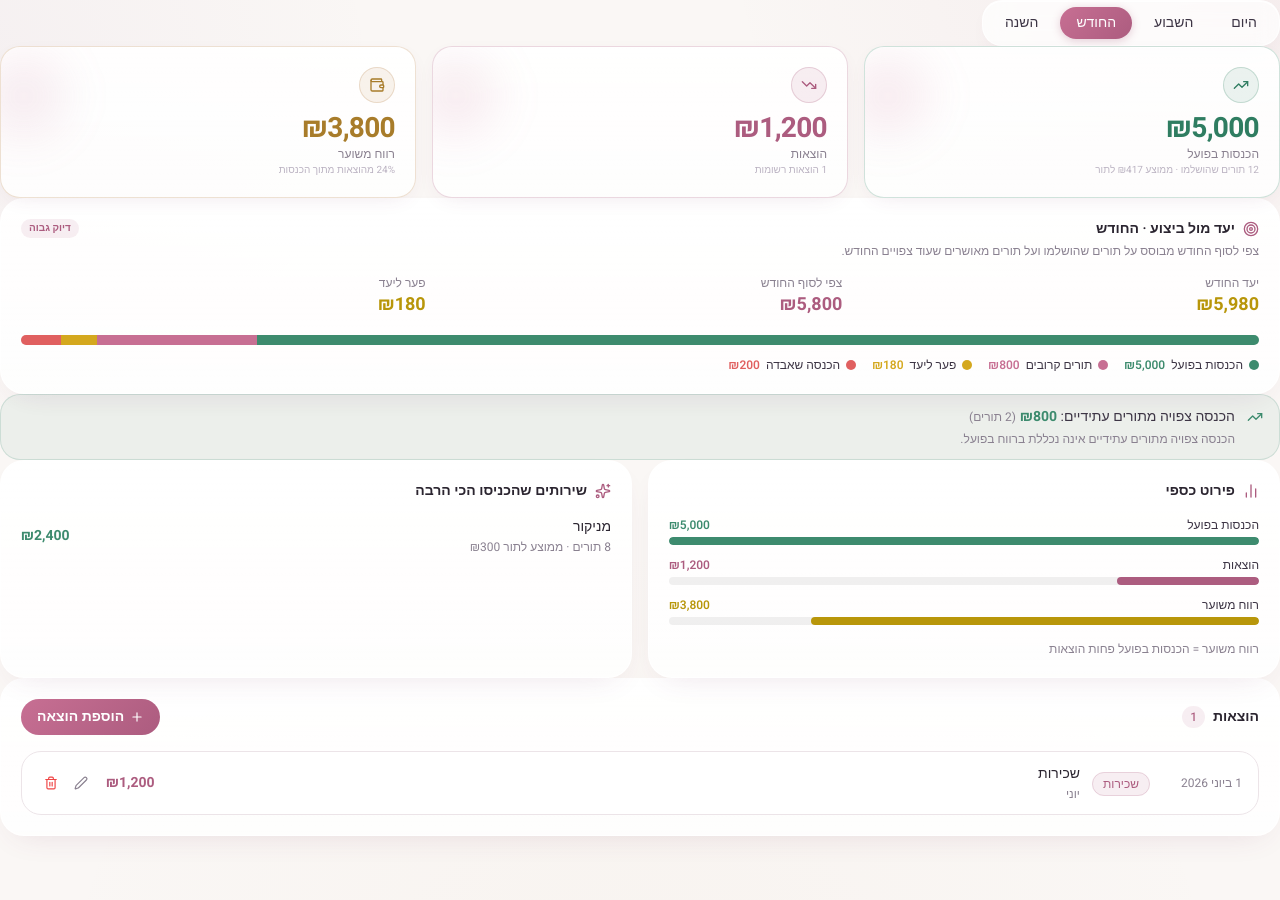
FinancePageClient — expenses CRUD › opens the add-expense modal from the header button
Click the button "הוספת הוצאה" at (91, 716), box [21, 698, 160, 734]
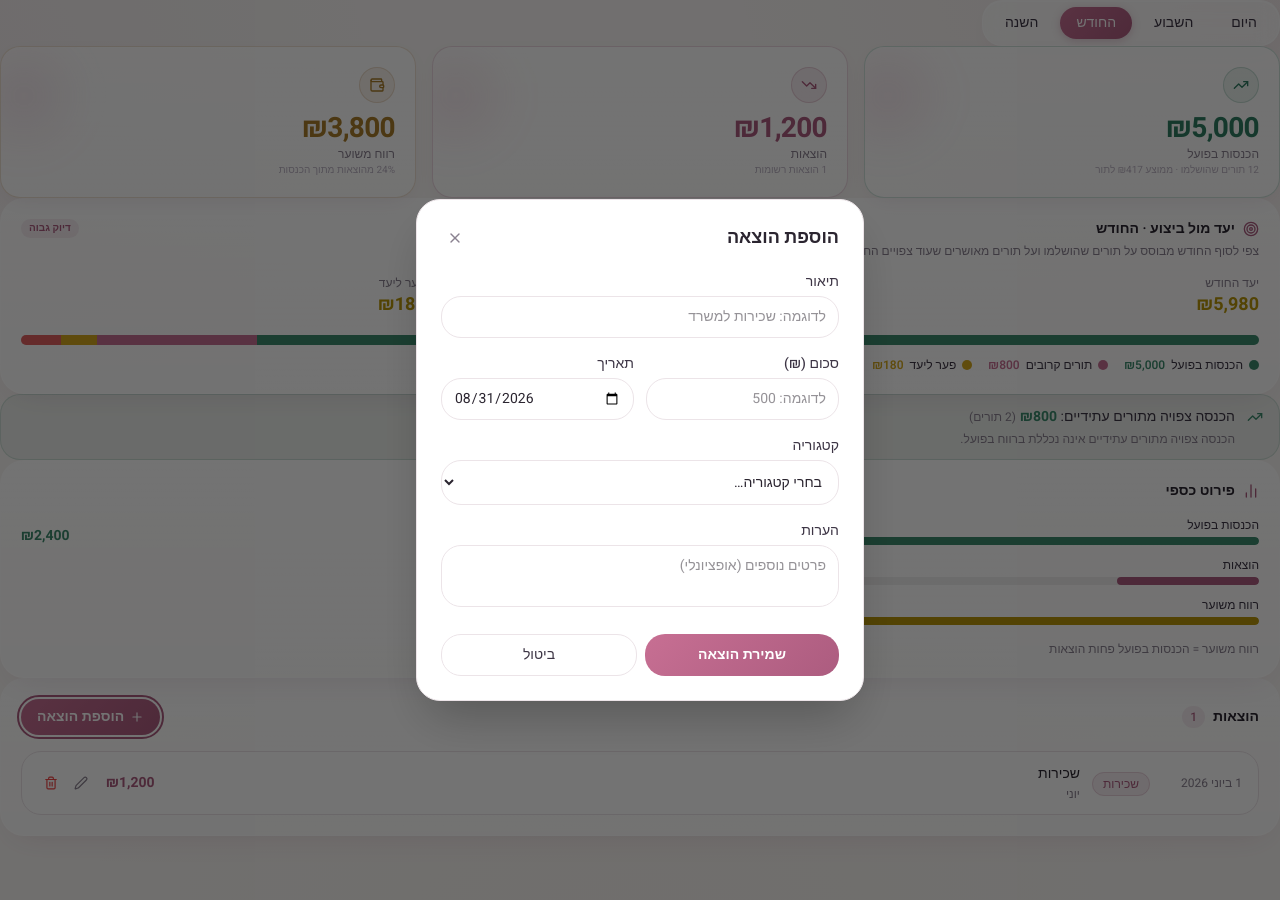
Expected: the heading "הוספת הוצאה" is shown, [727, 224, 839, 252]
